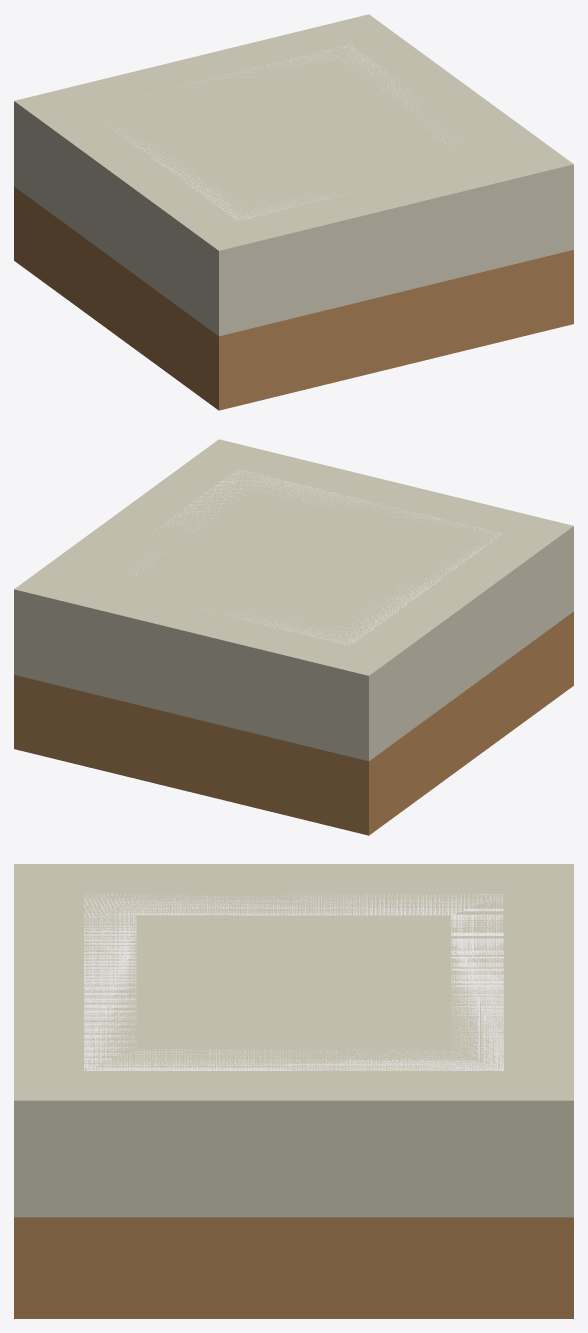
Rendered from Building 41.FBX.
The picture shows the model from 3 angles, top to bottom: view 1: azimuth 30°, elevation 25°; view 2: azimuth 150°, elevation 25°; view 3: azimuth 270°, elevation 25°; orthographic projection. The views are drawn at different scales.
Visible parts, largest first — view 1: Group92, Group93; view 2: Group92, Group93; view 3: Group92, Group93.
Part boxes in pixels (left/top/right/bottom): Group92: left=14, top=14, right=573, bottom=410; Group93: left=103, top=44, right=467, bottom=220; Group92: left=14, top=439, right=573, bottom=835; Group93: left=95, top=469, right=502, bottom=645; Group92: left=14, top=864, right=573, bottom=1318; Group93: left=84, top=893, right=503, bottom=1070.
Size of the model in its own units: 39.37 by 16.93 by 39.37.
